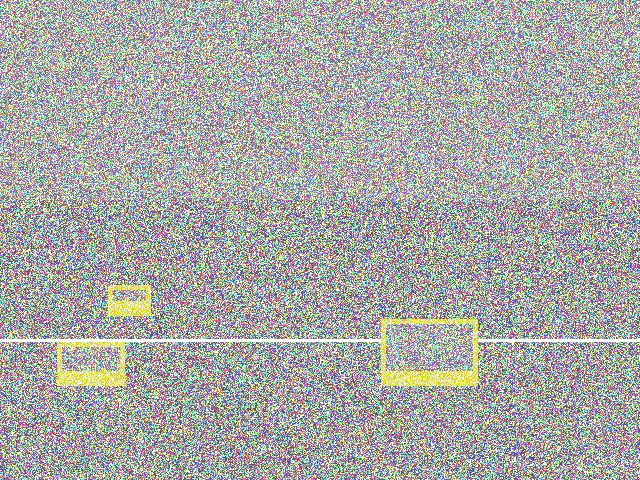car: (162, 327, 239, 388)
